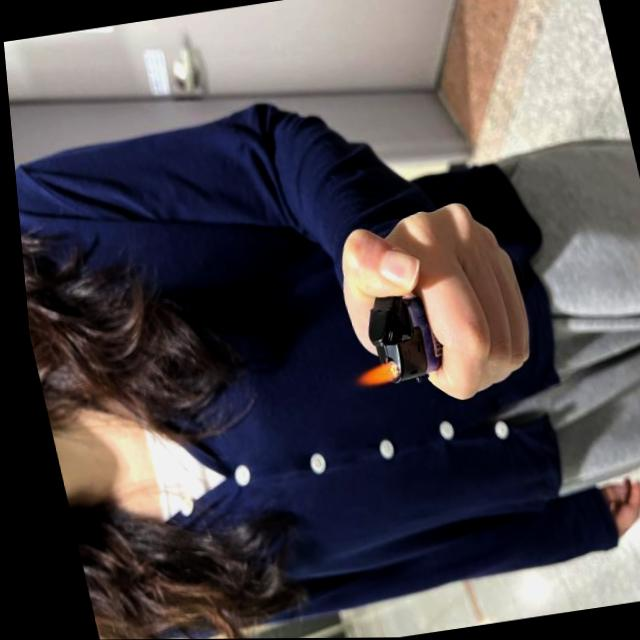helmet: (336, 362, 393, 390)
